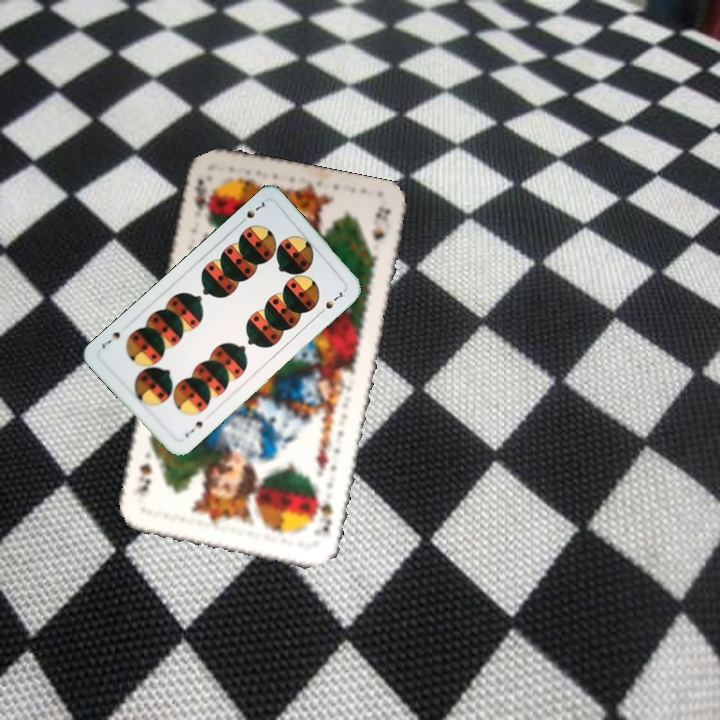S7: (235, 197, 268, 227), (181, 417, 206, 440)
SK: (309, 487, 336, 536), (190, 174, 214, 221)
